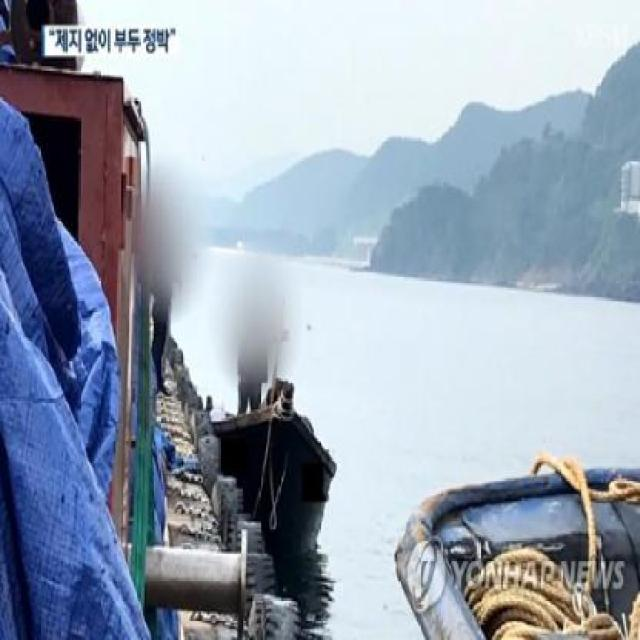fish-b: (206, 371, 338, 557)
